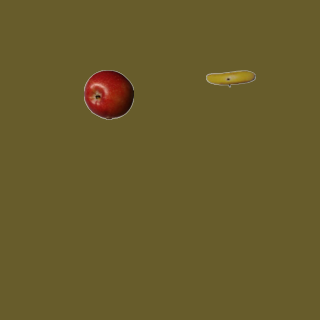Apple Braeburn: (83, 69, 133, 119)
Banana: (205, 53, 255, 103)
